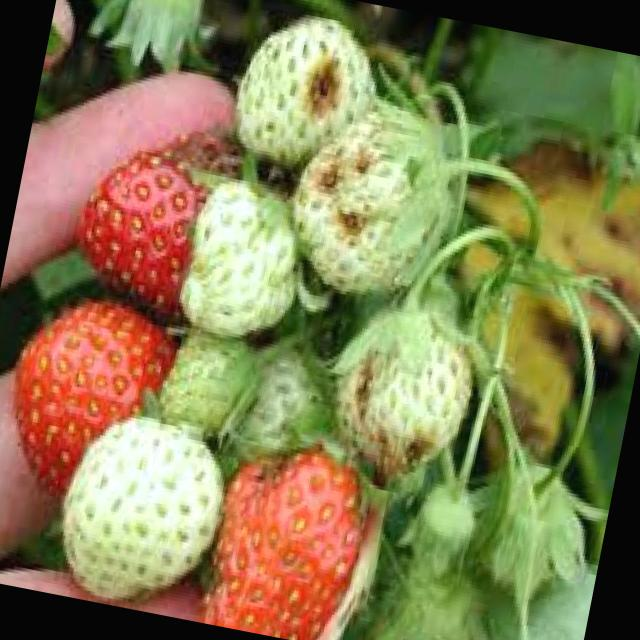Strawberry: (64, 108, 268, 326), (0, 281, 187, 515), (278, 99, 469, 314), (195, 423, 383, 640), (46, 406, 232, 613), (318, 298, 482, 480), (225, 6, 384, 176), (175, 172, 316, 347), (235, 342, 343, 472), (156, 324, 264, 442), (367, 562, 487, 640)
